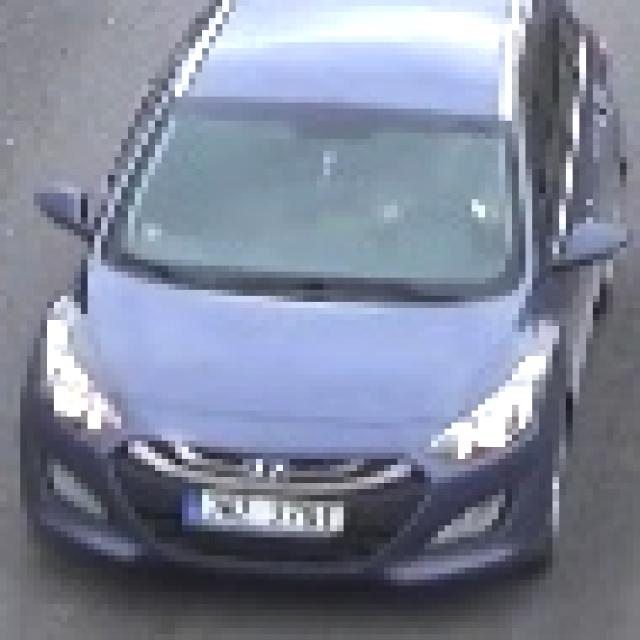blue: (22, 0, 612, 598)
